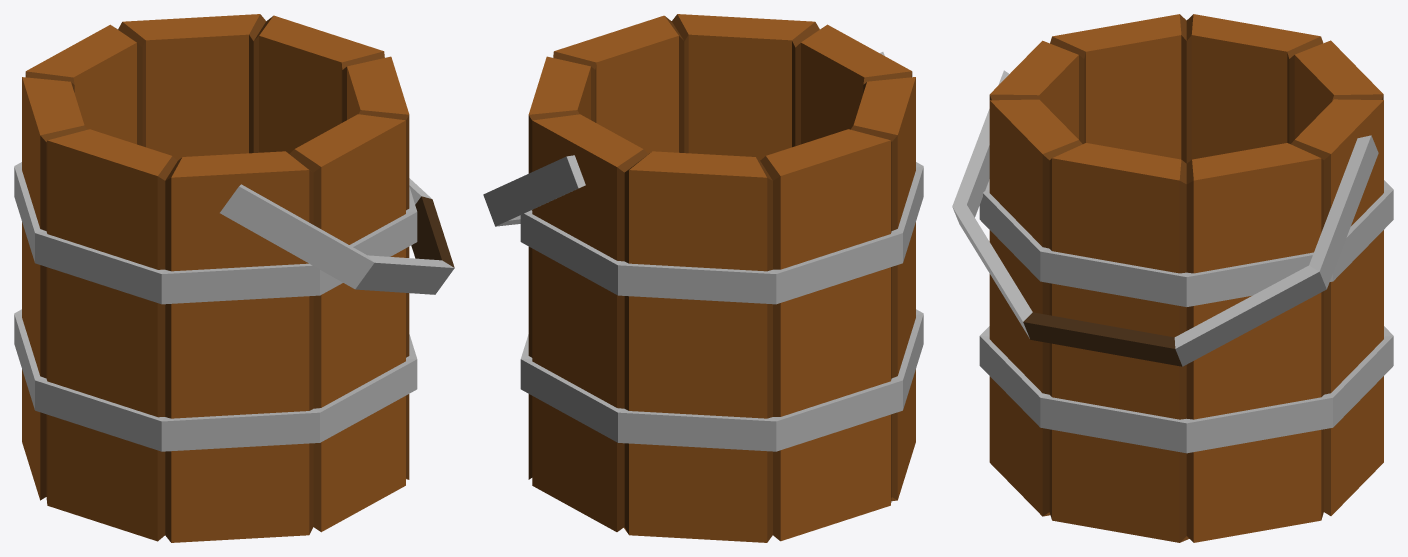
File: BucketUV.fbx
3 renders of one model, left to right at view 1: azimuth 30°, elevation 25°; view 2: azimuth 150°, elevation 25°; view 3: azimuth 270°, elevation 25°, orthographic.
Visible parts, largest first — view 1: Cylinder; view 2: Cylinder; view 3: Cylinder.
Part boxes in pixels (left/top/right/bottom): Cylinder: left=14, top=14, right=454, bottom=542; Cylinder: left=483, top=14, right=923, bottom=542; Cylinder: left=952, top=14, right=1393, bottom=542.
Bounding box in the file's own units: 41.66 × 37.12 × 40.99.
